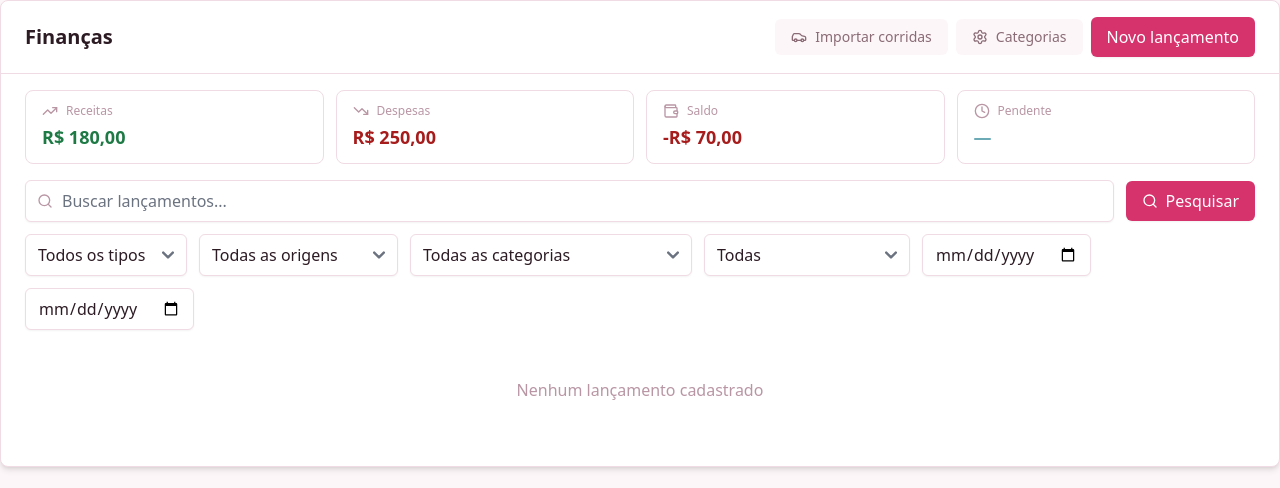
Test: FinancesPage › shows the filtered empty state
Check: the text "Nenhum lançamento cadastrado" is shown, box [517, 379, 763, 401]
Select "Despesa" in the dropdown named "Tipo" at (106, 255), box [25, 234, 187, 276]
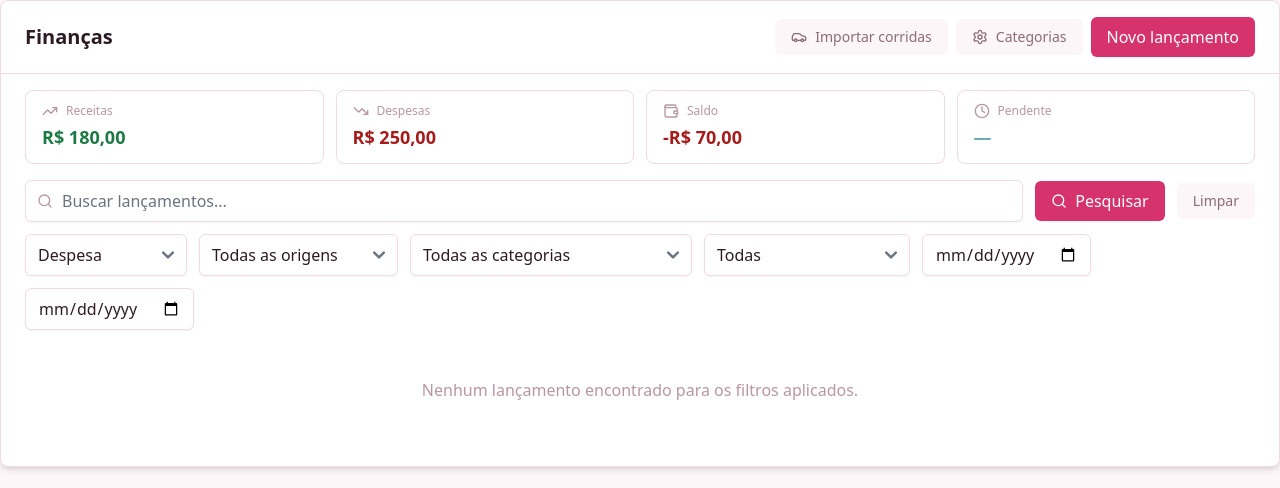
Check: the text "Nenhum lançamento encontrado para os filtros aplicados." is shown, box [422, 379, 858, 401]
